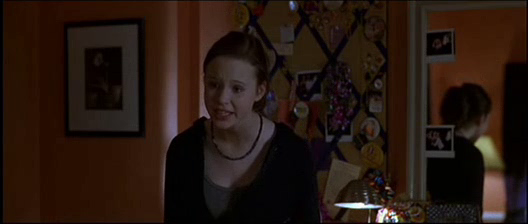face: (204, 67, 252, 129)
mcu: (1, 1, 528, 224)
person: (163, 29, 320, 224)
